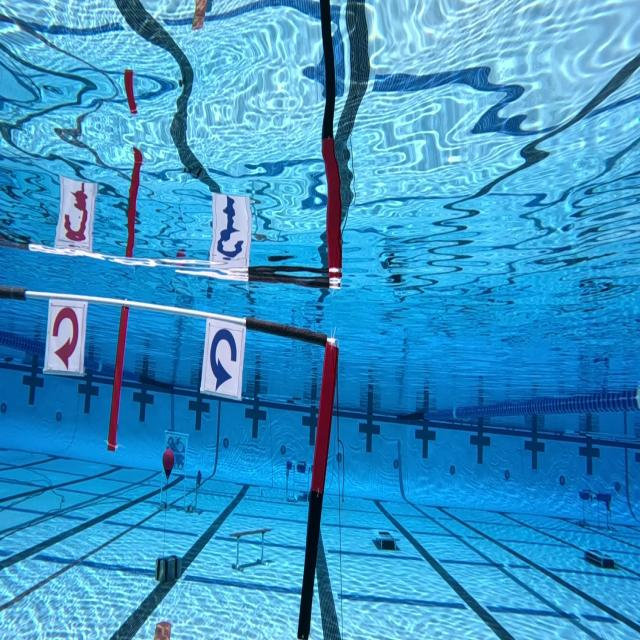blue_side: (200, 318, 246, 402)
red_side: (43, 297, 88, 378)
